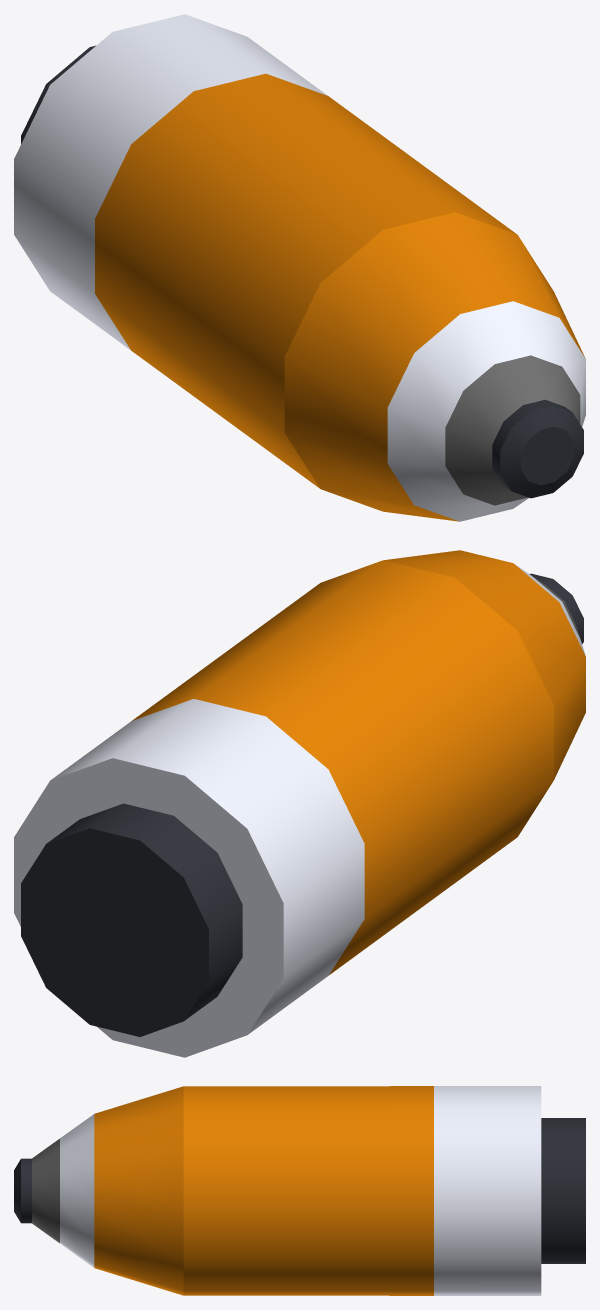
Rendered from Bullet (Tank).fbx.
The picture shows the model from 3 angles, top to bottom: view 1: azimuth 30°, elevation 25°; view 2: azimuth 150°, elevation 25°; view 3: azimuth 270°, elevation 25°; orthographic projection. The views are drawn at different scales.
Visible parts, largest first — view 1: mergedBlocks; view 2: mergedBlocks; view 3: mergedBlocks.
Part boxes in pixels (x1,y1,x2,y2): mergedBlocks: [14, 14, 585, 521]; mergedBlocks: [14, 550, 585, 1057]; mergedBlocks: [14, 1086, 585, 1295].
Bounding box in the file's own units: 4.6 × 4.6 × 12.8.
